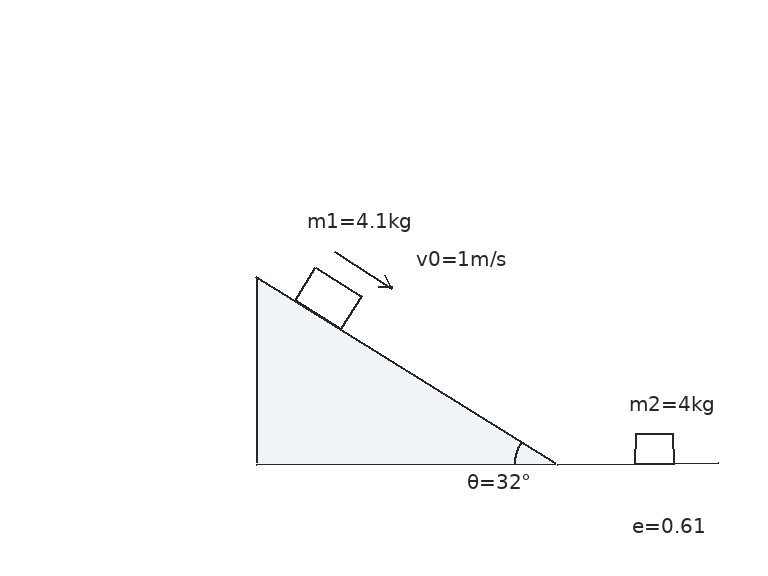block: (293, 265, 363, 331), (632, 432, 676, 465)
ramp: (254, 274, 557, 465)
